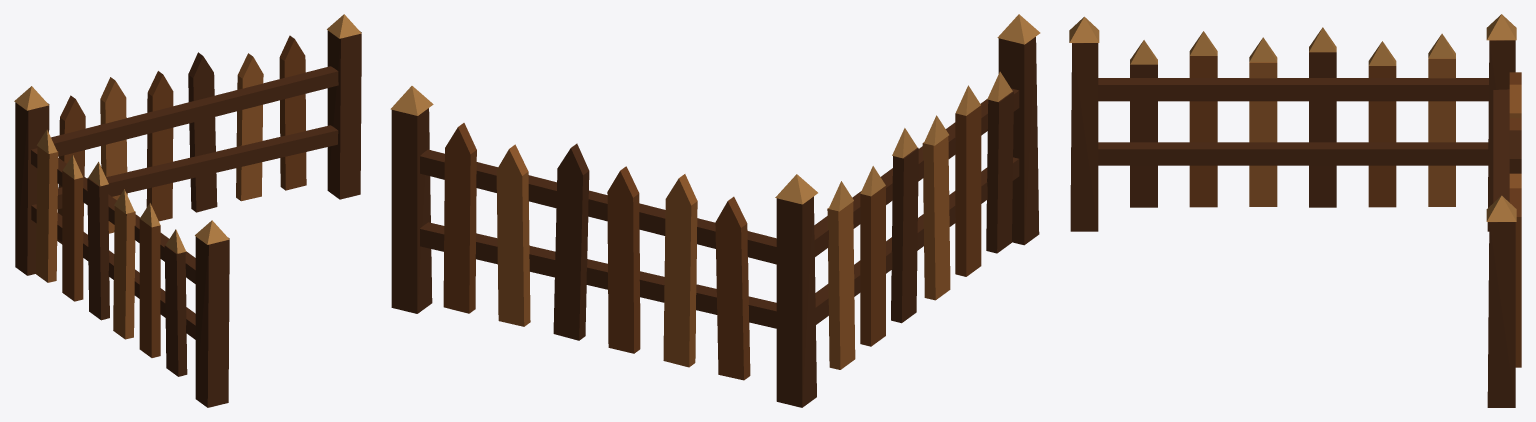
Rendered from fence_corner_3m.obj.
The picture shows the model from 3 angles, left to right: view 1: azimuth 30°, elevation 25°; view 2: azimuth 150°, elevation 25°; view 3: azimuth 270°, elevation 25°; orthographic projection. The views are drawn at different scales.
Parts seen in each view (by area): view 1: rail_high, post_z_end_shaft, post_right_shaft, rail_low, post_left_shaft, z_picket_5_body, picket_4, z_picket_3_body, z_picket_1_body, picket_6, z_picket_4_body, z_picket_2_body (+10 smaller); view 2: post_left_shaft, post_right_shaft, picket_4, picket_2, picket_6, picket_3, picket_1, picket_5, post_z_end_shaft, rail_high, rail_low, z_picket_5_body (+10 smaller); view 3: rail_z_low, rail_z_high, post_z_end_shaft, post_right_shaft, z_picket_3_body, z_picket_5_body, z_picket_1_body, z_picket_4_body, z_picket_2_body, z_picket_6_body, post_left_shaft, rail_high (+12 smaller).
Boxes of the visible parts, bbox=[...] form: rail_high: bbox=[51, 66, 338, 156]; post_z_end_shaft: bbox=[195, 237, 229, 407]; post_right_shaft: bbox=[327, 30, 361, 199]; rail_low: bbox=[57, 125, 338, 209]; post_left_shaft: bbox=[15, 102, 49, 275]; z_picket_5_body: bbox=[139, 219, 160, 357]; picket_4: bbox=[188, 52, 217, 212]; z_picket_3_body: bbox=[87, 178, 109, 320]; z_picket_1_body: bbox=[36, 146, 58, 282]; picket_6: bbox=[279, 35, 306, 190]; z_picket_4_body: bbox=[113, 206, 135, 339]; z_picket_2_body: bbox=[62, 171, 83, 301]; post_left_shaft: bbox=[776, 196, 816, 407]; post_right_shaft: bbox=[391, 108, 432, 313]; picket_4: bbox=[553, 143, 589, 340]; picket_2: bbox=[663, 174, 697, 367]; picket_6: bbox=[443, 123, 476, 313]; picket_3: bbox=[607, 166, 640, 353]; picket_1: bbox=[715, 196, 750, 380]; picket_5: bbox=[496, 144, 530, 326]; post_z_end_shaft: bbox=[998, 37, 1039, 245]; rail_high: bbox=[420, 149, 776, 264]; rail_low: bbox=[420, 222, 776, 328]; z_picket_5_body: bbox=[955, 105, 981, 276]; rail_z_low: bbox=[1098, 142, 1488, 165]; rail_z_high: bbox=[1098, 78, 1488, 101]; post_z_end_shaft: bbox=[1070, 43, 1098, 231]; post_right_shaft: bbox=[1487, 222, 1515, 407]; z_picket_3_body: bbox=[1309, 52, 1336, 207]; z_picket_5_body: bbox=[1189, 56, 1217, 207]; z_picket_1_body: bbox=[1428, 58, 1455, 206]; z_picket_4_body: bbox=[1249, 58, 1277, 206]; z_picket_2_body: bbox=[1368, 66, 1396, 207]; z_picket_6_body: bbox=[1130, 64, 1157, 207]; post_left_shaft: bbox=[1487, 40, 1515, 231]; rail_high: bbox=[1493, 89, 1509, 202].
Size of the model in its own units: 3.27 by 1.68 by 3.25.
